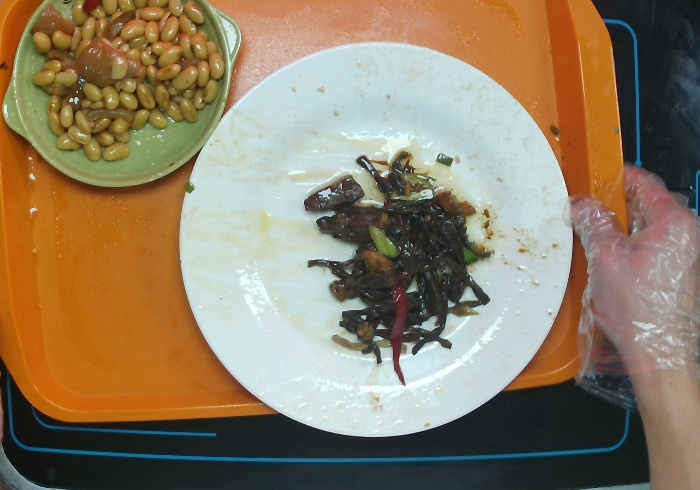NLDX-Da_Yuan_Pan: (174, 32, 580, 446)
NLDX-Lv_Hua_Shuang_Er_Die: (1, 1, 245, 200)
